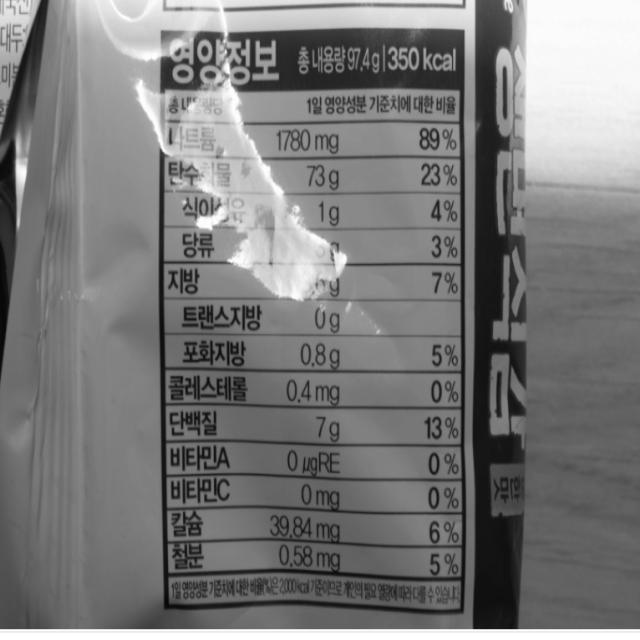Nutrition Label: (141, 11, 478, 632)
